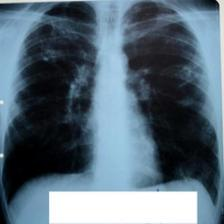tuberculosis: (0, 0, 219, 212)
